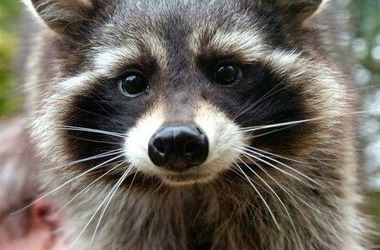raccoon: (8, 1, 367, 250)
